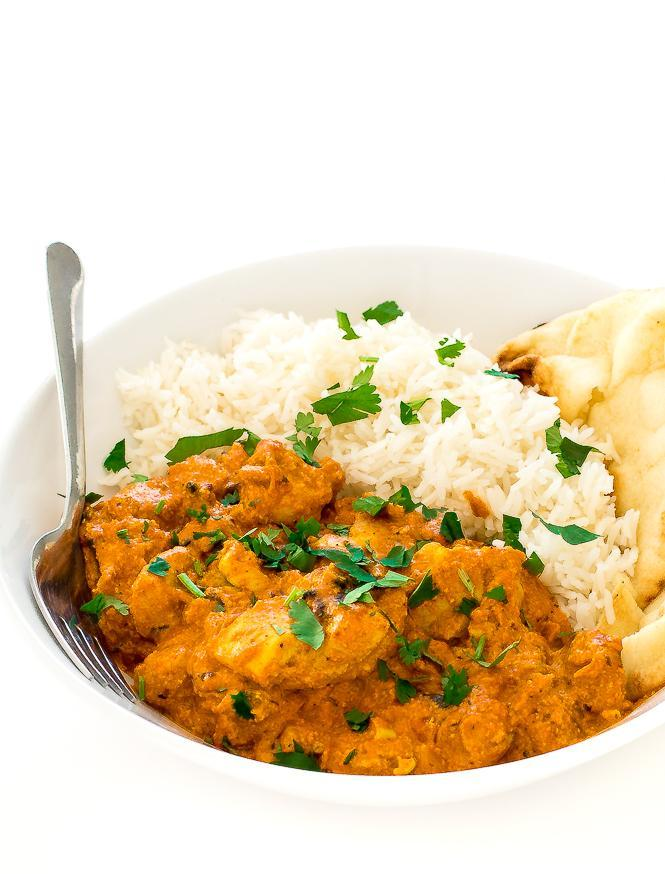chicken: (98, 461, 580, 785)
rice: (130, 309, 590, 489)
roti: (558, 289, 665, 522)
